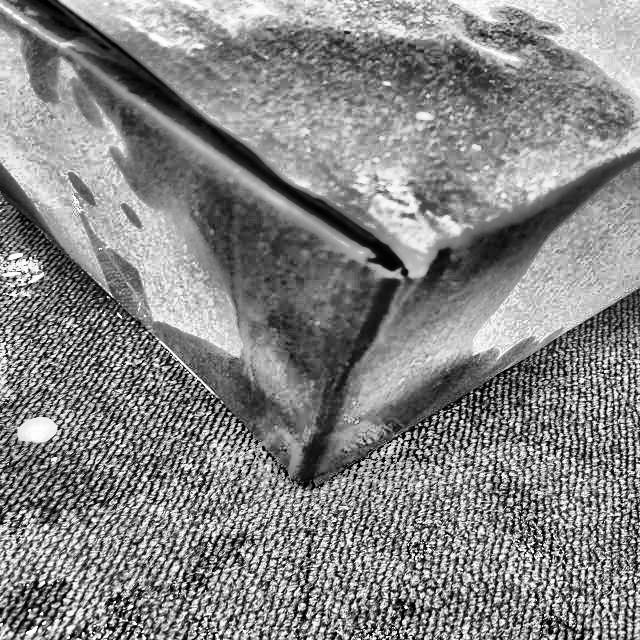box: (0, 0, 639, 491)
wet: (164, 0, 574, 481)
